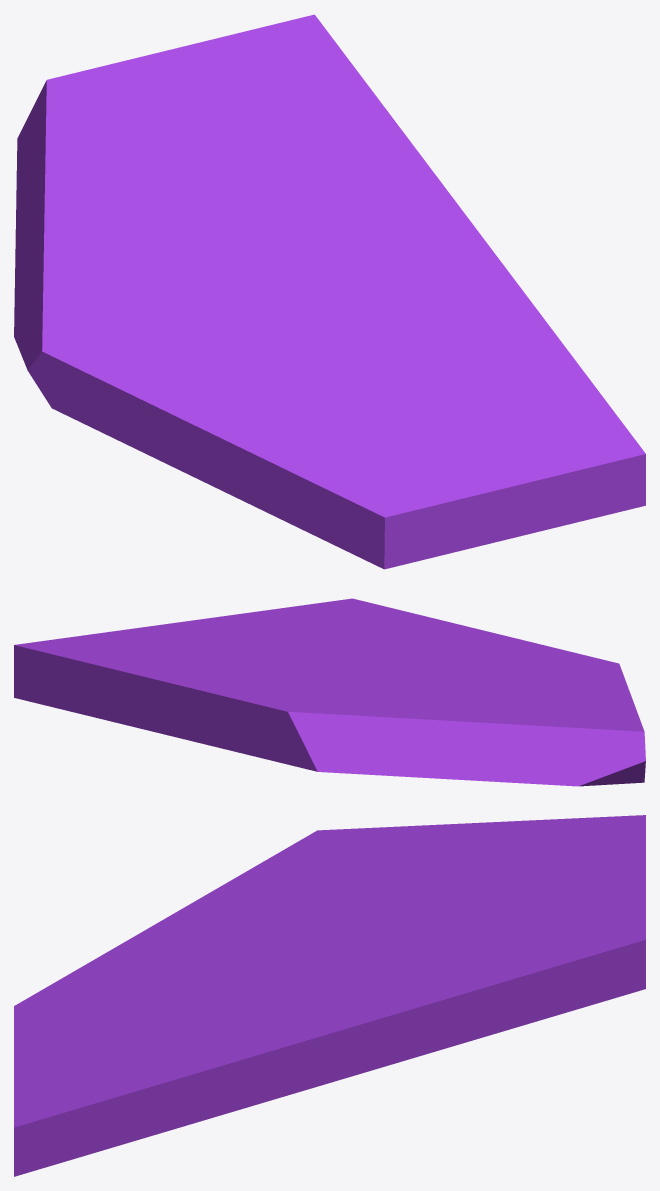
Rendered from Window_136_2_chunks.fbx.
3 views of the same model, one above another, from view 1: azimuth 30°, elevation 25°; view 2: azimuth 150°, elevation 25°; view 3: azimuth 270°, elevation 25° (orthographic). The views are drawn at different scales.
Parts seen in each view (by area): view 1: Window_136_2_5, Window_136_2_9, Window_136_2_20, Window_136_2_6, Window_136_2_24, Window_136_2_13, Window_136_2_3, Window_136_2_15, Window_136_2_19, Window_136_2_0, Window_136_2_16, Window_136_2_7 (+10 smaller); view 2: Window_136_2_24, Window_136_2_5, Window_136_2_7, Window_136_2_6, Window_136_2_20, Window_136_2_9, Window_136_2_3, Window_136_2_19, Window_136_2_13, Window_136_2_0, Window_136_2_16, Window_136_2_22 (+9 smaller); view 3: Window_136_2_5, Window_136_2_20, Window_136_2_19, Window_136_2_24, Window_136_2_6, Window_136_2_9, Window_136_2_3, Window_136_2_13, Window_136_2_0, Window_136_2_16, Window_136_2_22, Window_136_2_11 (+10 smaller).
Boxes of the visible parts, <box> form: Window_136_2_5: <box>182,14,436,216</box>; Window_136_2_9: <box>77,357,298,489</box>; Window_136_2_20: <box>391,293,640,447</box>; Window_136_2_6: <box>19,251,220,410</box>; Window_136_2_24: <box>17,47,204,170</box>; Window_136_2_13: <box>343,395,476,555</box>; Window_136_2_3: <box>215,172,361,334</box>; Window_136_2_15: <box>436,457,645,556</box>; Window_136_2_19: <box>351,177,528,298</box>; Window_136_2_0: <box>168,266,403,358</box>; Window_136_2_16: <box>439,407,645,471</box>; Window_136_2_7: <box>14,145,97,349</box>; Window_136_2_24: <box>149,678,399,772</box>; Window_136_2_5: <box>14,628,288,732</box>; Window_136_2_7: <box>327,711,604,786</box>; Window_136_2_6: <box>429,685,645,785</box>; Window_136_2_20: <box>234,599,399,650</box>; Window_136_2_9: <box>508,675,641,722</box>; Window_136_2_3: <box>252,650,397,679</box>; Window_136_2_19: <box>139,615,302,650</box>; Window_136_2_13: <box>437,639,621,671</box>; Window_136_2_0: <box>394,648,534,701</box>; Window_136_2_16: <box>348,598,494,643</box>; Window_136_2_22: <box>250,679,436,695</box>; Window_136_2_5: <box>389,878,645,1055</box>; Window_136_2_20: <box>22,998,276,1157</box>; Window_136_2_19: <box>222,970,421,1111</box>; Window_136_2_24: <box>507,815,645,894</box>; Window_136_2_6: <box>279,826,422,911</box>; Window_136_2_9: <box>91,853,285,961</box>; Window_136_2_3: <box>243,902,483,982</box>; Window_136_2_13: <box>14,983,160,1047</box>; Window_136_2_0: <box>202,890,362,1004</box>; Window_136_2_16: <box>14,1025,125,1136</box>; Window_136_2_22: <box>354,876,531,919</box>; Window_136_2_11: <box>70,956,189,995</box>.
Size of the model in its own units: 919 by 482 by 1165.
